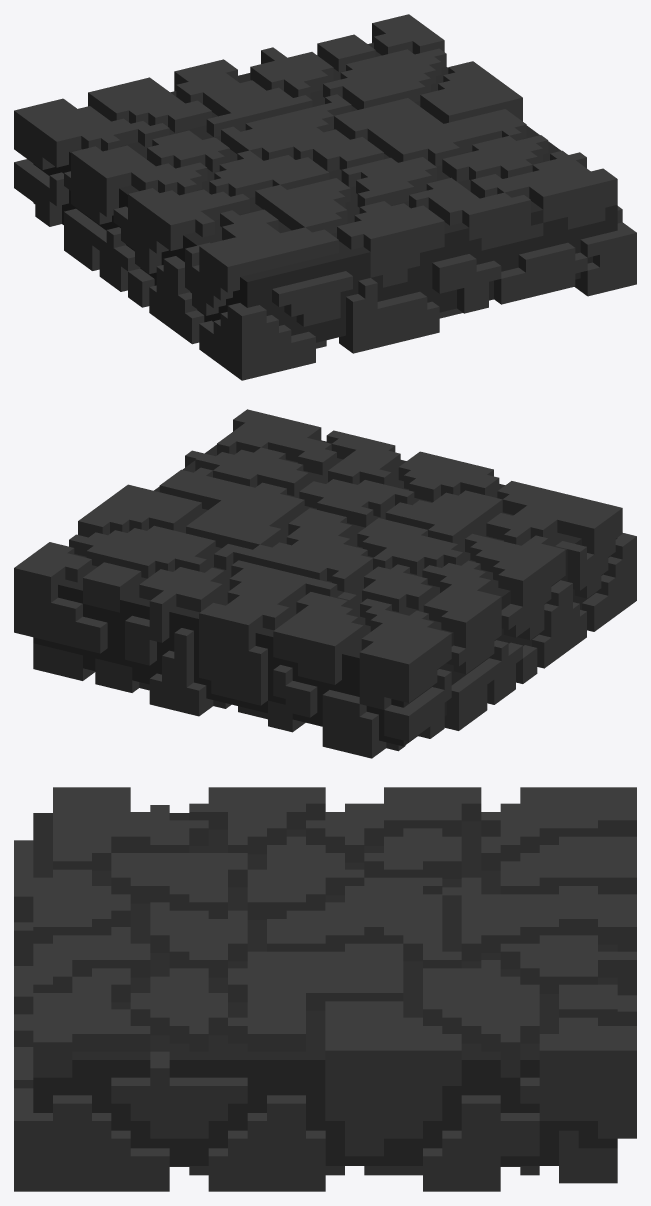
The model's file is stone.obj.
3 views of the same model, one above another, from view 1: azimuth 30°, elevation 25°; view 2: azimuth 150°, elevation 25°; view 3: azimuth 270°, elevation 25° (orthographic). The views are drawn at different scales.
Size of the model in its own units: 3.2 by 0.8 by 3.2.
1 material, 1 textured.
